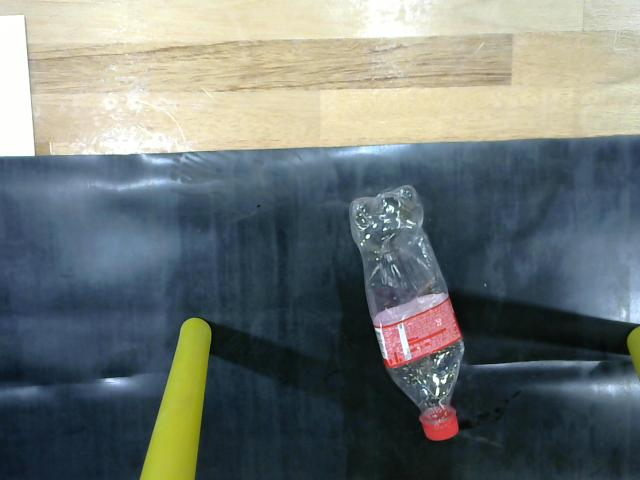bottle: (339, 174, 474, 444)
